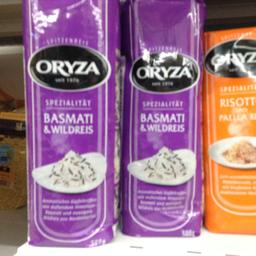rice: (21, 0, 120, 246), (119, 0, 206, 235), (204, 28, 254, 234)
